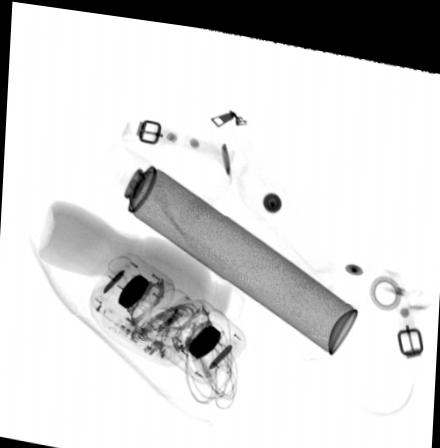Sprayer: (90, 137, 357, 347)
